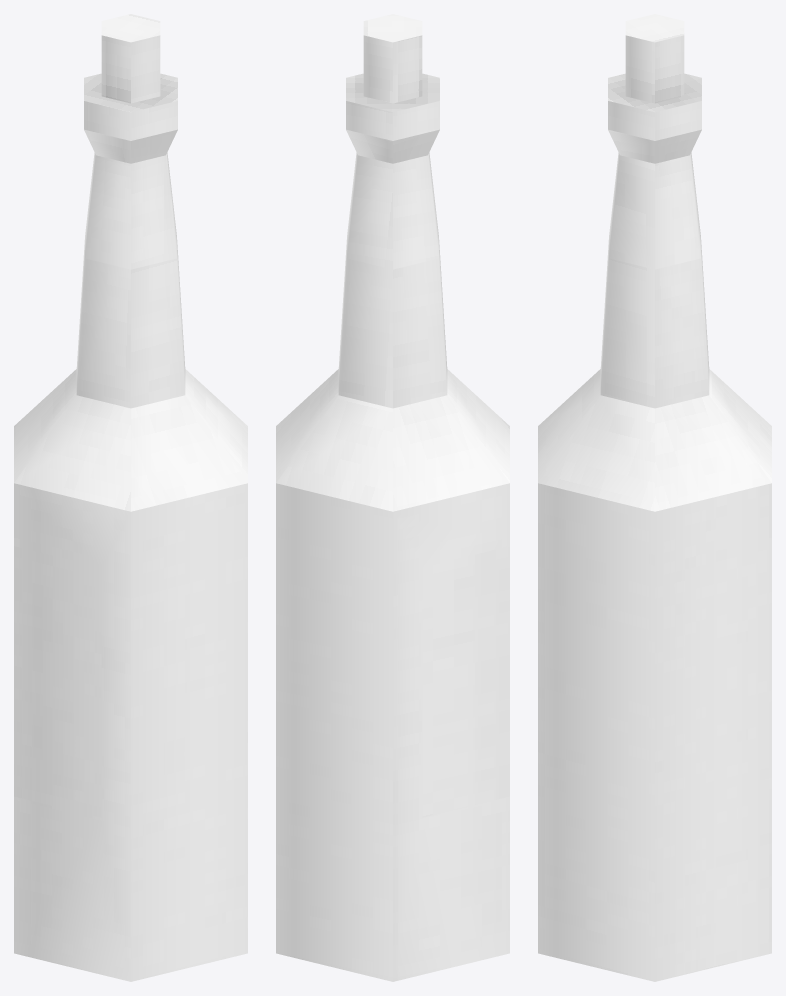
File: BottleWine.glb
3 views of the same model, side by side, from view 1: azimuth 30°, elevation 25°; view 2: azimuth 150°, elevation 25°; view 3: azimuth 270°, elevation 25° (orthographic).
Visible parts, largest first — view 1: BottleWine, BottleWine.001; view 2: BottleWine, BottleWine.001; view 3: BottleWine, BottleWine.001.
Boxes of the visible parts, box(x1,y1,x2,y2) form: BottleWine: box(14, 73, 247, 981); BottleWine.001: box(101, 14, 160, 103); BottleWine: box(276, 73, 509, 981); BottleWine.001: box(363, 14, 422, 103); BottleWine: box(538, 73, 771, 981); BottleWine.001: box(625, 14, 684, 103).
Bounding box in the file's own units: 0.0981 × 0.3592 × 0.0849.
1 material, 1 textured.
